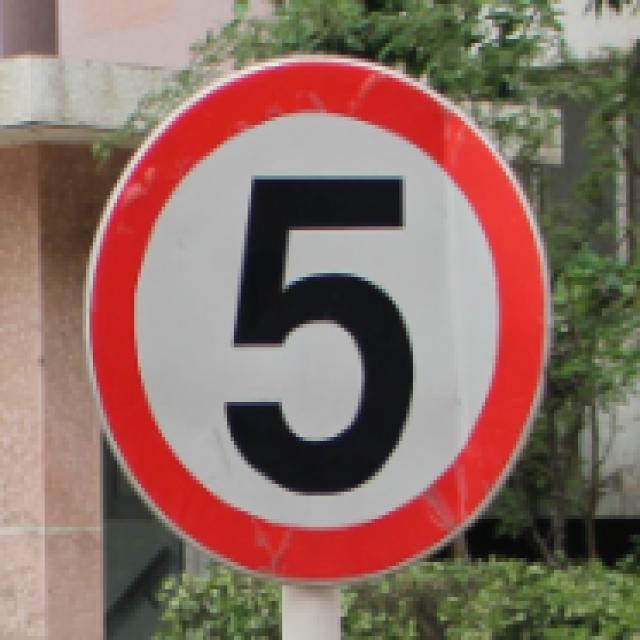speed limit 10: (85, 51, 550, 585)
